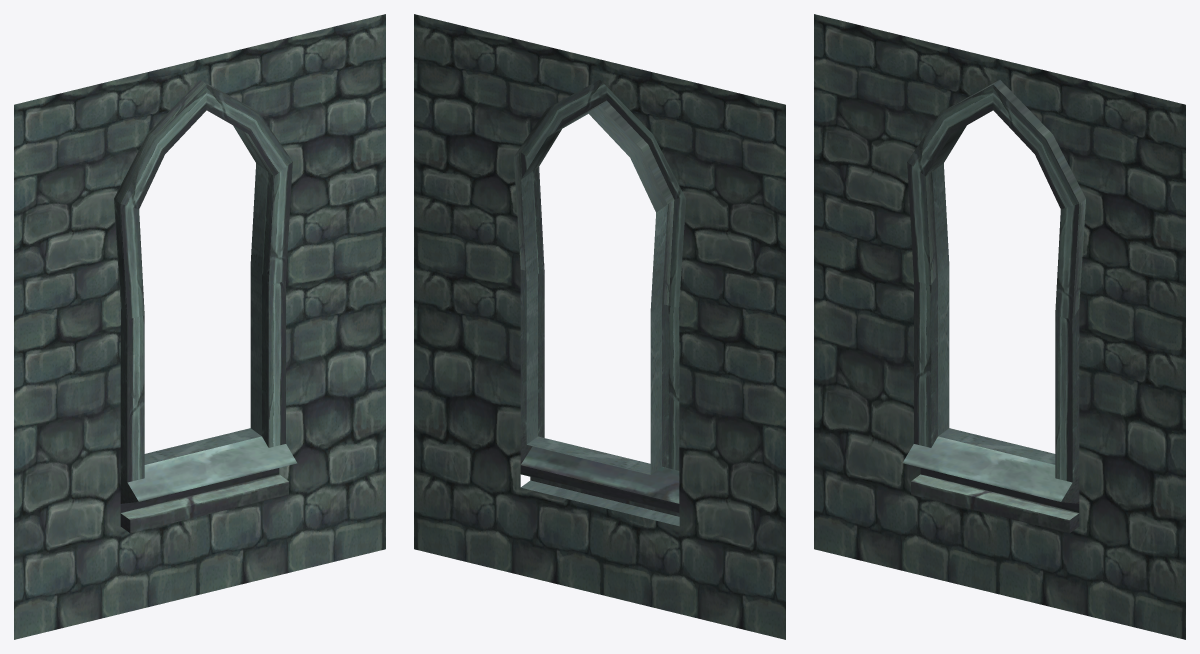
Rendered from crypt_wall_straight_04.fbx.
3 views of the same model, side by side, from view 1: azimuth 30°, elevation 25°; view 2: azimuth 150°, elevation 25°; view 3: azimuth 330°, elevation 25° (orthographic).
Visible parts, largest first — view 1: crypt_wall_straight_04-0; view 2: crypt_wall_straight_04-0; view 3: crypt_wall_straight_04-0.
Part boxes in pixels (x1,y1,x2,y2): crypt_wall_straight_04-0: (14, 14, 385, 639); crypt_wall_straight_04-0: (414, 14, 785, 639); crypt_wall_straight_04-0: (814, 14, 1185, 639).
Size of the model in its own units: 4 by 5.5 by 0.5522.
